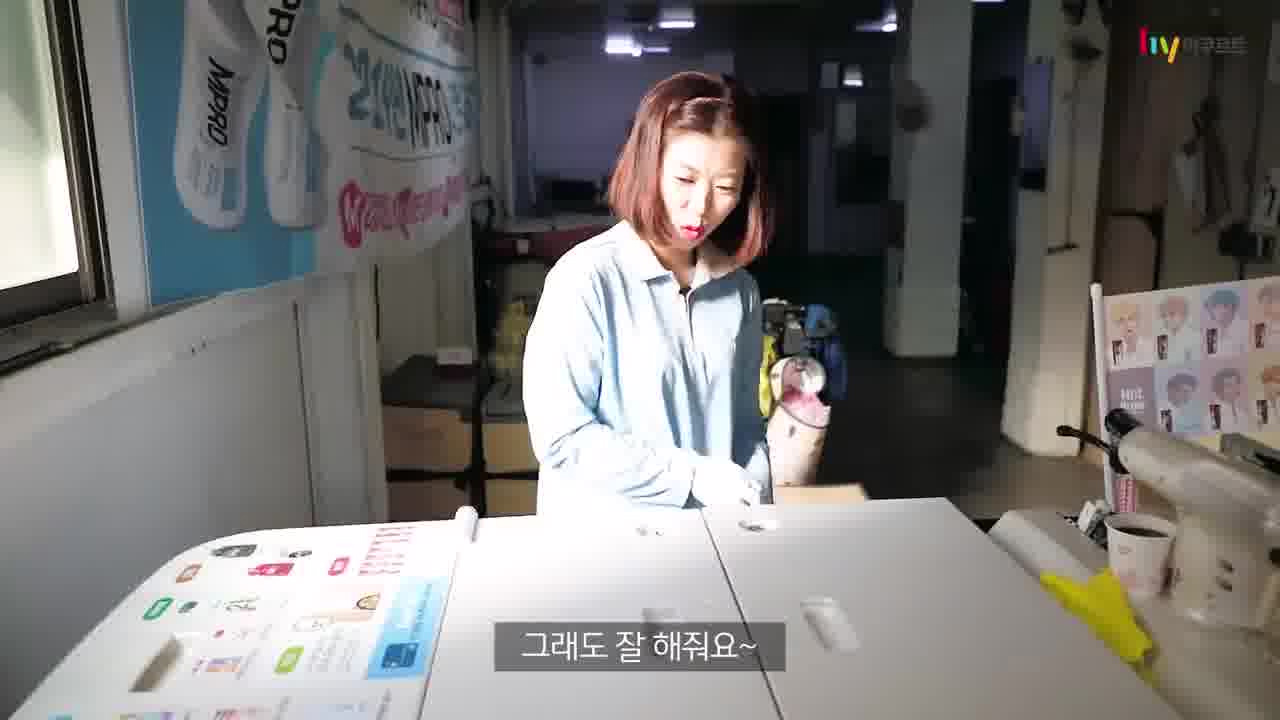Yakurut: (514, 62, 863, 552)
